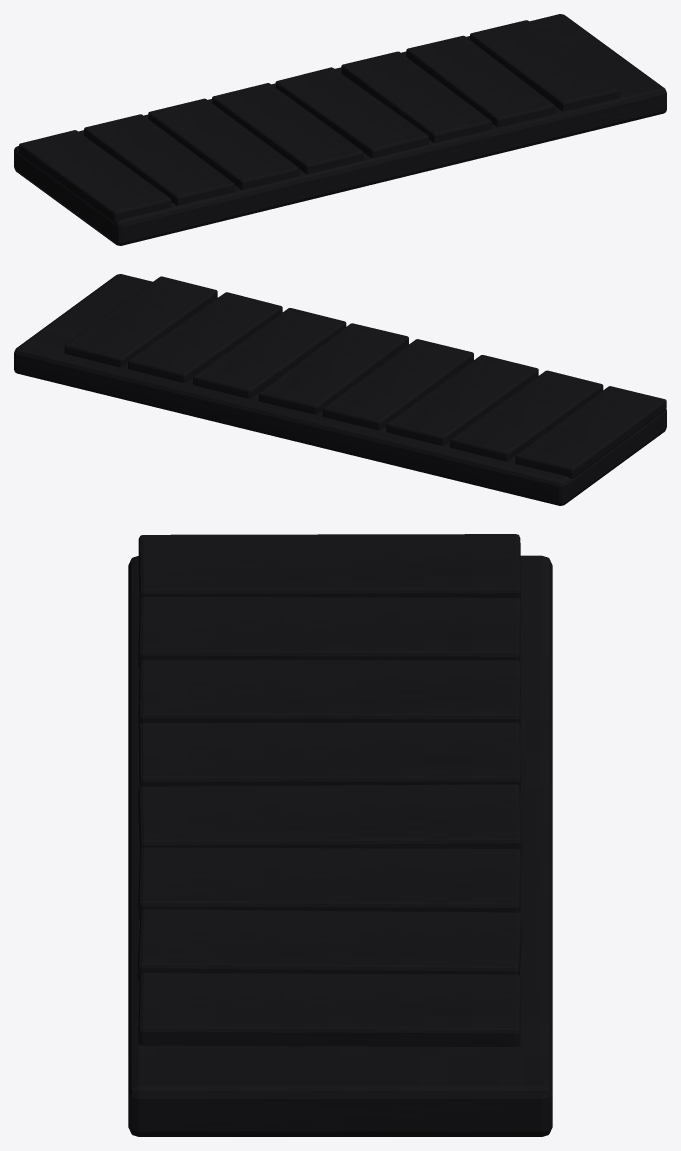
Rendered from prop_town_roof_plank_medium.glb.
3 views of the same model, one above another, from view 1: azimuth 30°, elevation 25°; view 2: azimuth 150°, elevation 25°; view 3: azimuth 270°, elevation 25° (orthographic). The views are drawn at different scales.
Parts seen in each view (by area): view 1: slate; view 2: slate; view 3: slate.
Boxes of the visible parts, left/top/right/bottom form: slate: left=14, top=14, right=666, bottom=245; slate: left=14, top=274, right=666, bottom=505; slate: left=128, top=534, right=552, bottom=1136.
Bounding box in the file's own units: 3.61 × 0.215 × 1.2.
1 material, 1 textured.
